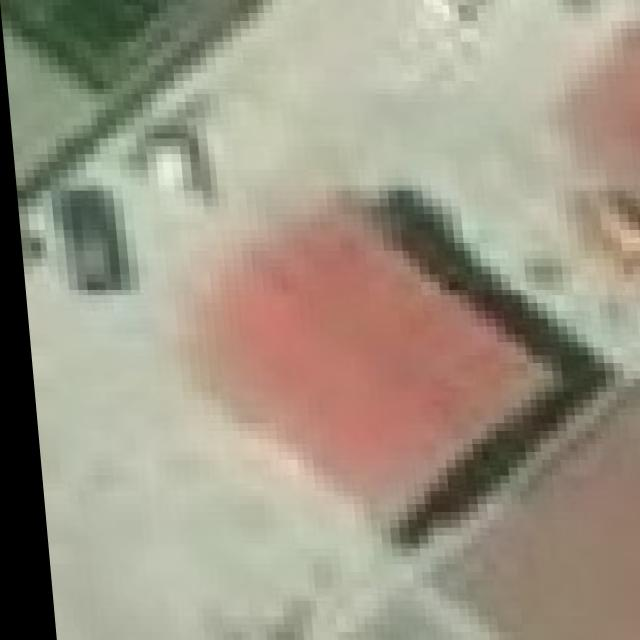Batiment: (203, 218, 518, 502)
